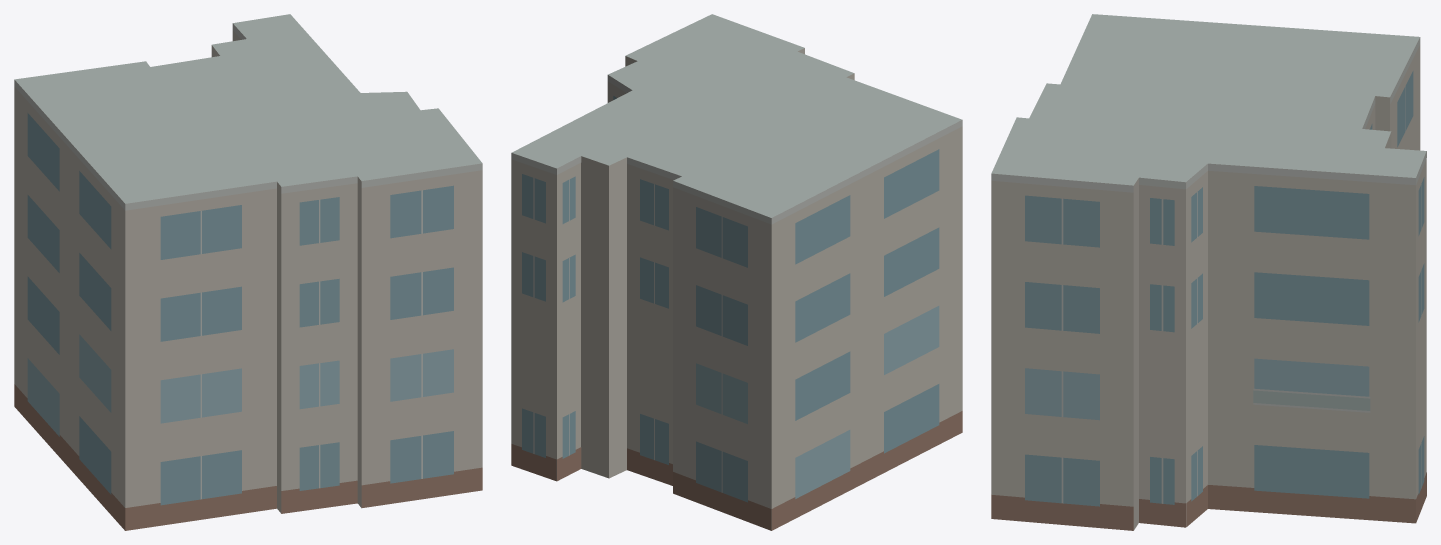
File: survey-upis-32675108.glb
3 views of the same model, side by side, from view 1: azimuth 30°, elevation 25°; view 2: azimuth 150°, elevation 25°; view 3: azimuth 270°, elevation 25° (orthographic). The views are drawn at different scales.
Visible parts, largest first — view 1: survey-upis-32675108.tmp; view 2: survey-upis-32675108.tmp; view 3: survey-upis-32675108.tmp.
Part boxes in pixels (box(x1,y1,x2,y2)): survey-upis-32675108.tmp: box(14, 14, 482, 530); survey-upis-32675108.tmp: box(511, 14, 962, 530); survey-upis-32675108.tmp: box(991, 14, 1426, 530).
Size of the model in its own units: 12.48 by 11.7 by 13.38.
